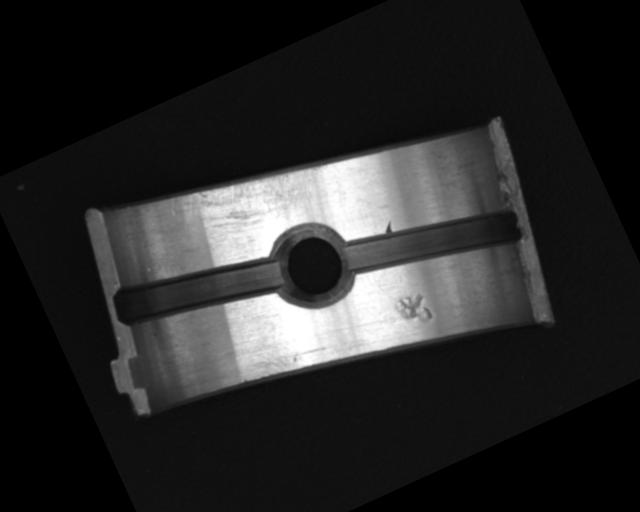bruise: (391, 287, 436, 333), (380, 218, 396, 235)
gap: (339, 173, 527, 307), (108, 226, 289, 356)
hole: (259, 213, 364, 319)
scratch: (164, 134, 334, 266)
